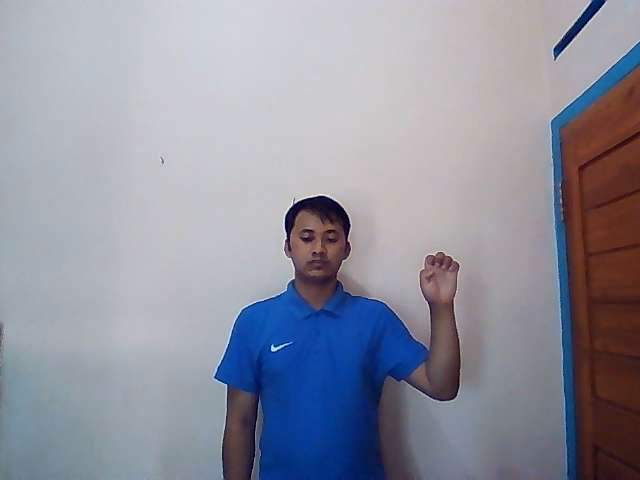E: (417, 251, 460, 305)
